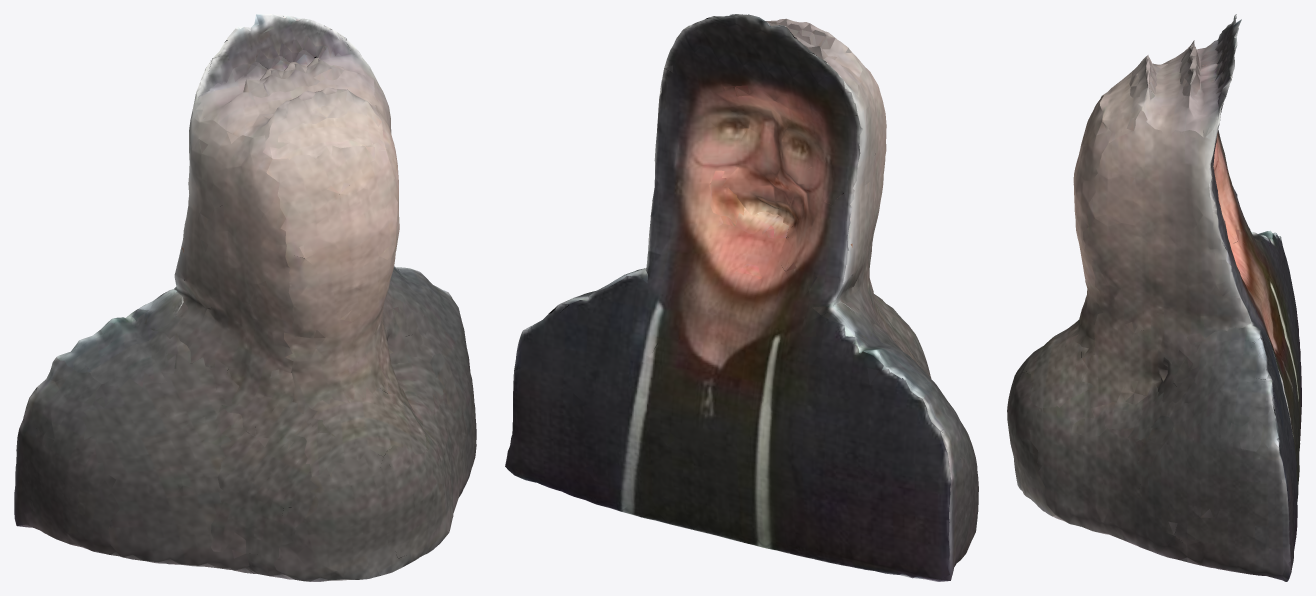
File: profile-3d.glb
3 views of the same model, side by side, from view 1: azimuth 30°, elevation 25°; view 2: azimuth 150°, elevation 25°; view 3: azimuth 270°, elevation 25° (orthographic). The views are drawn at different scales.
Visible parts, largest first — view 1: world; view 2: world; view 3: world.
Part boxes in pixels (x1,y1,x2,y2): world: [14, 14, 476, 581]; world: [505, 14, 978, 581]; world: [1007, 14, 1301, 581].
Bounding box in the file's own units: 0.801 × 0.8584 × 0.4872.
Materials: 1 (1 with a texture image).
